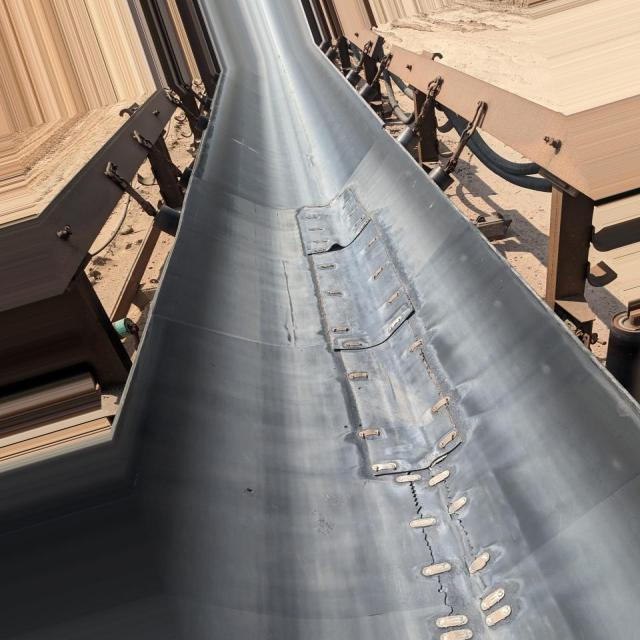patch work: (296, 180, 522, 640)
